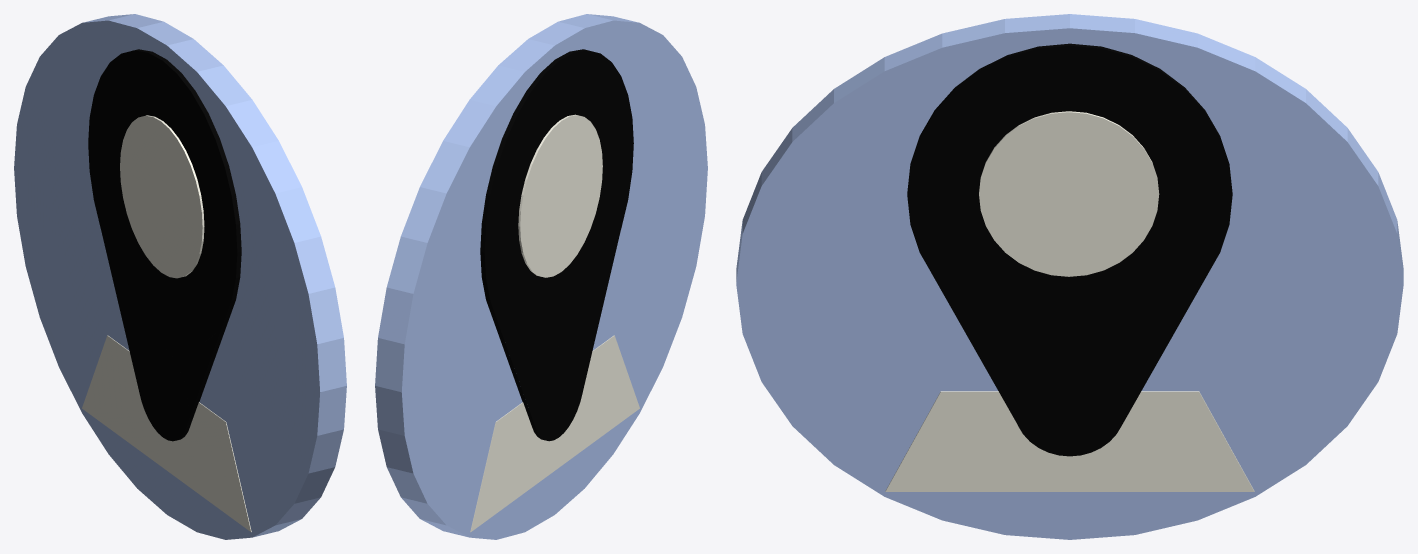
Rendered from Mapa.glb.
The picture shows the model from 3 angles, left to right: view 1: azimuth 30°, elevation 25°; view 2: azimuth 150°, elevation 25°; view 3: azimuth 270°, elevation 25°; orthographic projection. The views are drawn at different scales.
Visible parts, largest first — view 1: Circle, Circle.001, Cube, Exterior.001, Cube.001, Circle.002; view 2: Circle, Circle.001, Cube, Exterior.001, Cube.001, Circle.002; view 3: Circle, Circle.001, Cube, Exterior.001, Cube.001, Circle.002.
Boxes of the visible parts, bbox=[...] form: Circle: bbox=[14, 14, 346, 539]; Circle.001: bbox=[88, 49, 241, 345]; Cube: bbox=[82, 335, 251, 532]; Exterior.001: bbox=[120, 115, 204, 278]; Cube.001: bbox=[101, 231, 234, 425]; Circle.002: bbox=[137, 342, 190, 441]; Circle: bbox=[375, 14, 707, 539]; Circle.001: bbox=[480, 49, 633, 345]; Cube: bbox=[470, 335, 639, 532]; Exterior.001: bbox=[518, 114, 602, 277]; Cube.001: bbox=[486, 232, 620, 426]; Circle.002: bbox=[532, 342, 584, 441]; Circle: bbox=[736, 14, 1403, 539]; Circle.001: bbox=[907, 43, 1232, 344]; Cube: bbox=[885, 391, 1254, 491]; Exterior.001: bbox=[979, 111, 1159, 276]; Cube.001: bbox=[931, 267, 1211, 425]; Circle.002: bbox=[1018, 426, 1121, 456].
Bounding box in the file's own units: 0.2643 × 3.06 × 3.61.
